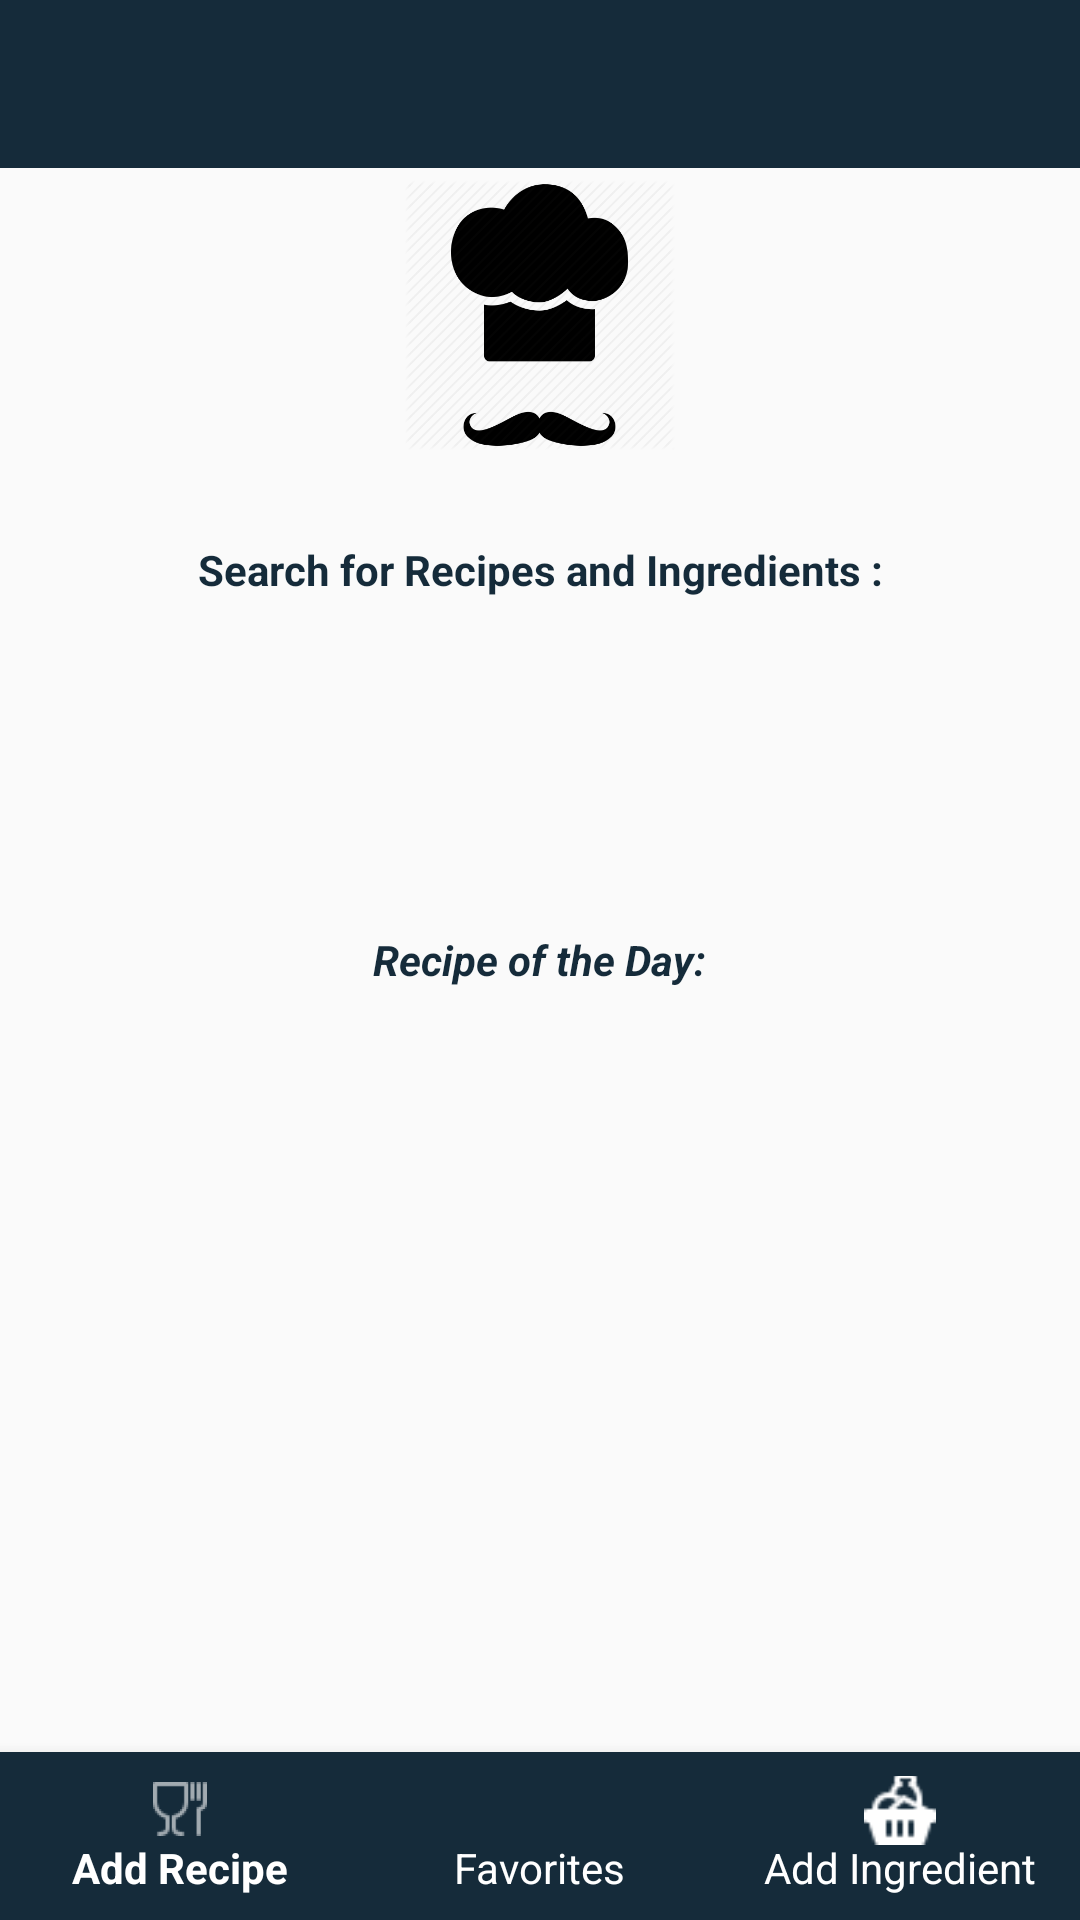

Where icons sit on this 1080 x 1920 app screen, as (x1, y1, x2, y2):
chef cook: (451, 184, 628, 446)
